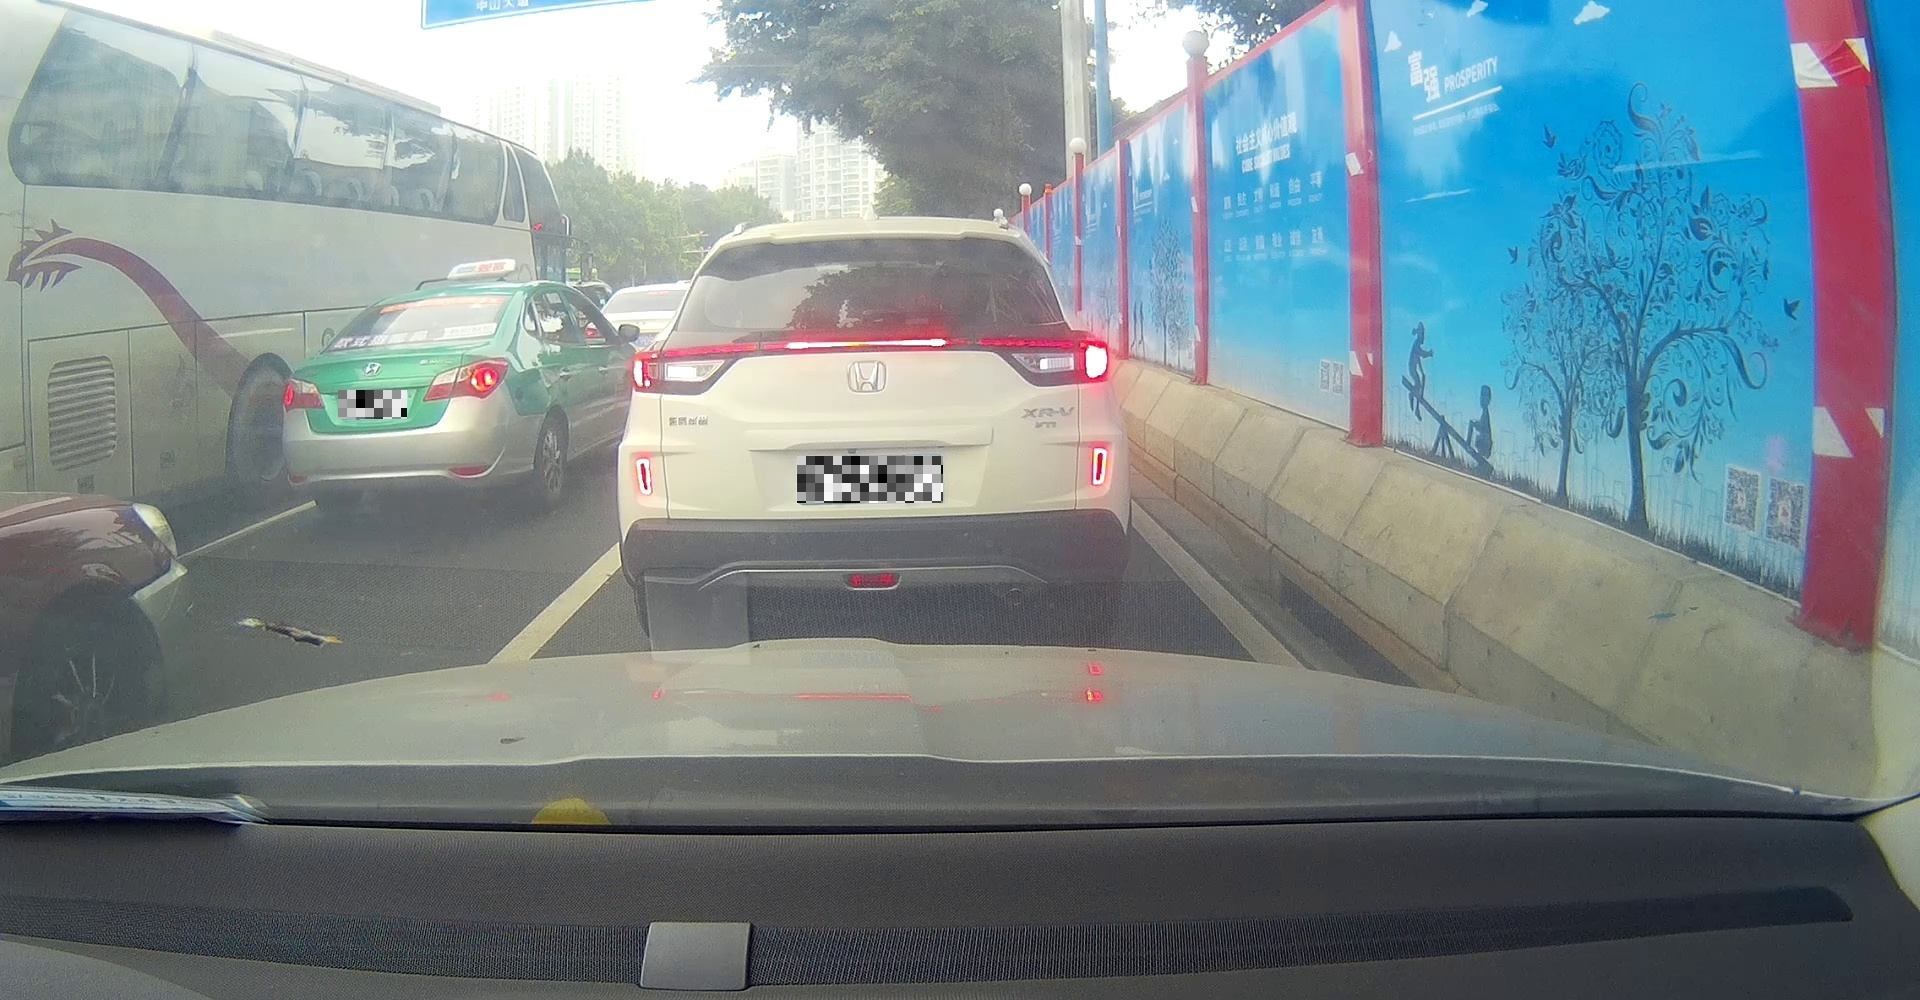L_light: (632, 349, 739, 395), (284, 378, 326, 412)
R_light: (978, 339, 1111, 387), (422, 357, 510, 401)
T_light: (785, 339, 949, 348), (437, 294, 463, 299)
day-brake: (617, 217, 1130, 637)
day-no: (282, 280, 532, 518)
plate_1: (338, 390, 408, 419)
plate_2: (797, 456, 943, 503)
